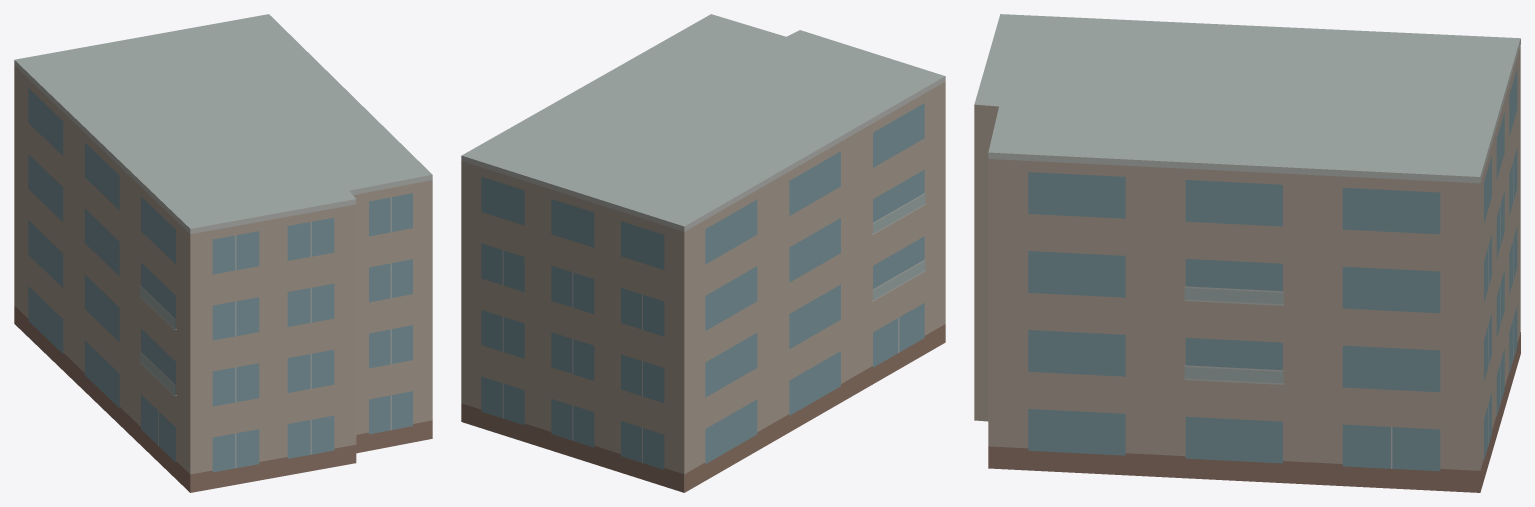
Rendered from survey-upis-32500581.glb.
3 views of the same model, side by side, from view 1: azimuth 30°, elevation 25°; view 2: azimuth 150°, elevation 25°; view 3: azimuth 270°, elevation 25° (orthographic). The views are drawn at different scales.
Parts seen in each view (by area): view 1: survey-upis-32500581.tmp; view 2: survey-upis-32500581.tmp; view 3: survey-upis-32500581.tmp.
Boxes of the visible parts, x1=… form: survey-upis-32500581.tmp: x1=14, y1=14, x2=432, y2=492; survey-upis-32500581.tmp: x1=461, y1=14, x2=945, y2=492; survey-upis-32500581.tmp: x1=974, y1=14, x2=1520, y2=492.
Bounding box in the file's own units: 13.4 × 12.1 × 18.98.
